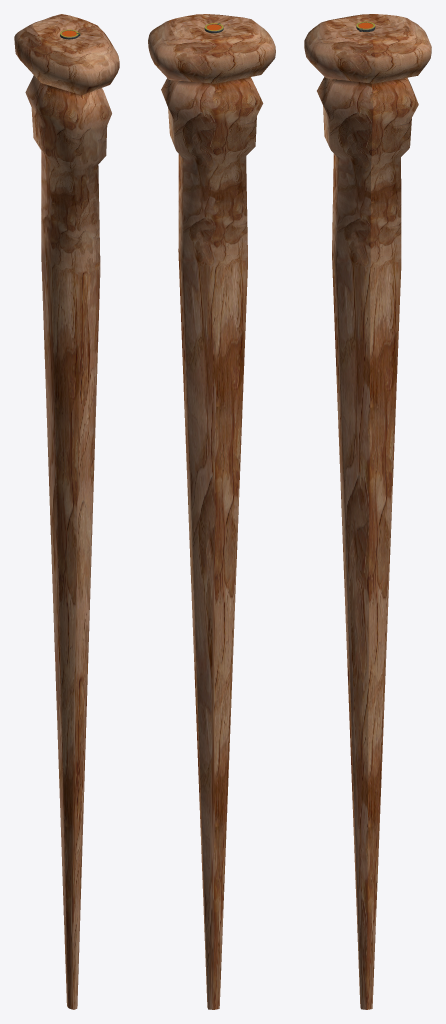
The model's file is Bullet Station 47.fbx.
3 views of the same model, side by side, from view 1: azimuth 90°, elevation 25°; view 2: azimuth 150°, elevation 25°; view 3: azimuth 330°, elevation 25° (orthographic).
Visible parts, largest first — view 1: STG08_ONS_13; view 2: STG08_ONS_13; view 3: STG08_ONS_13.
Boxes of the visible parts, <box> form: STG08_ONS_13: <box>14,14,119,1009</box>; STG08_ONS_13: <box>148,14,275,1009</box>; STG08_ONS_13: <box>304,14,431,1009</box>.
Size of the model in its own units: 404675 by 3442381 by 337454.
